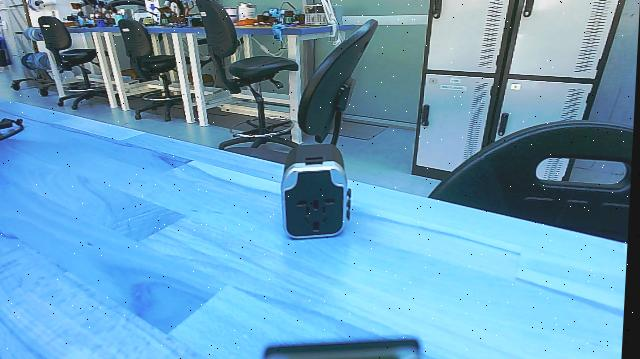adapter: (274, 143, 359, 242)
